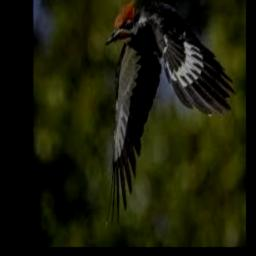Woodpecker: (106, 0, 236, 227)
